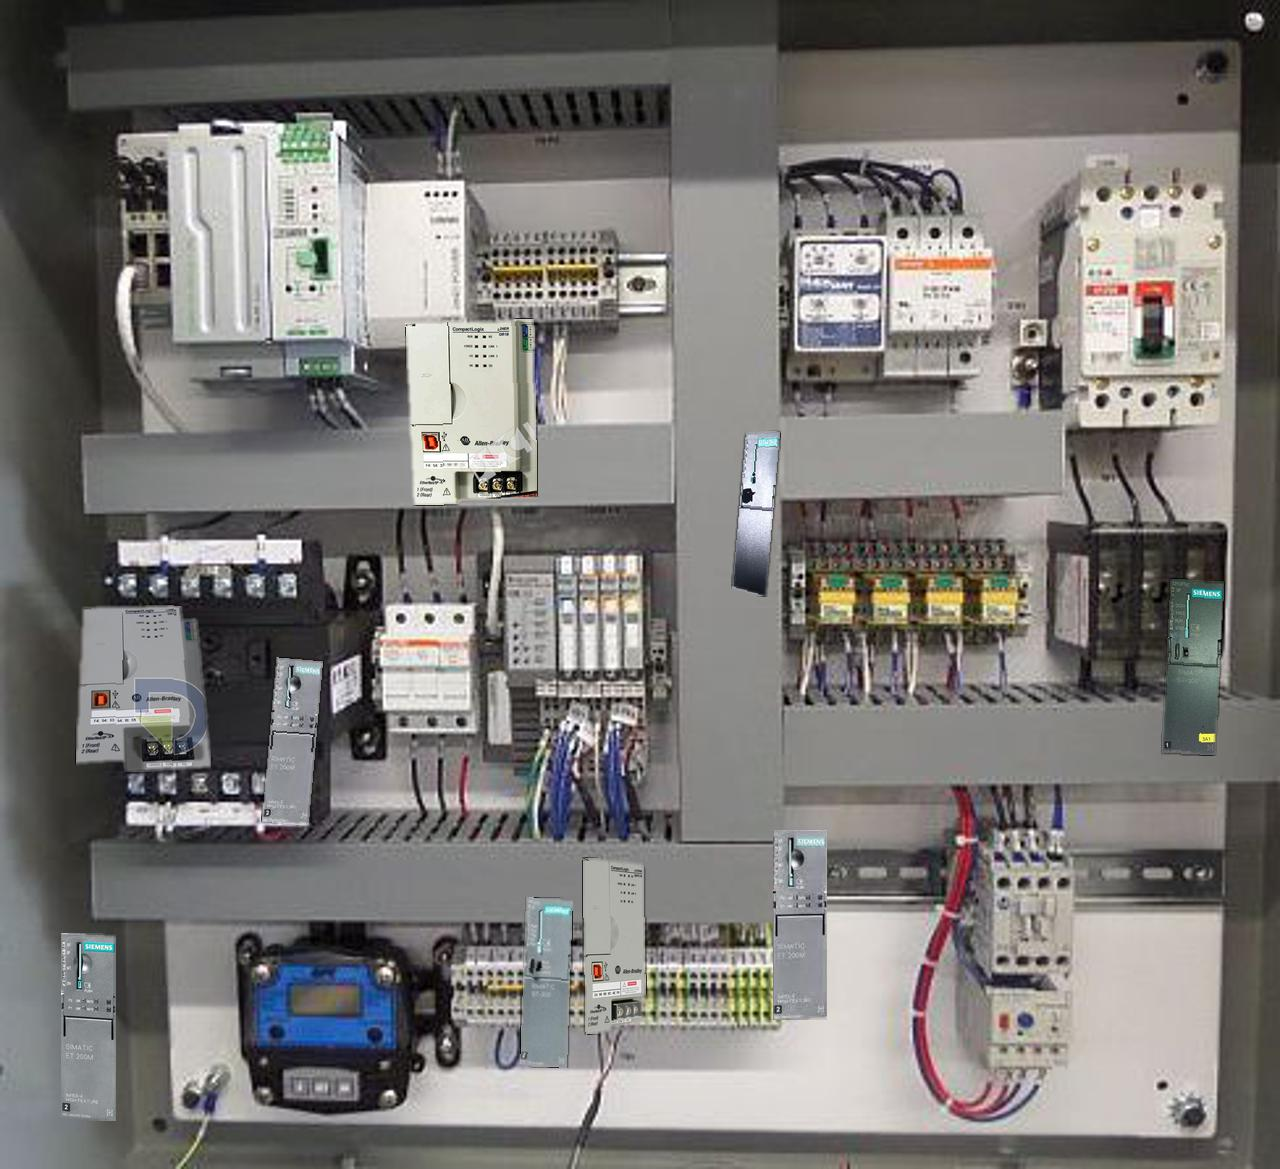AllenBradley: (405, 319, 536, 504), (76, 605, 210, 771), (582, 858, 644, 1034)
Siemens: (1162, 579, 1223, 754), (520, 897, 572, 1067), (733, 432, 779, 595)
